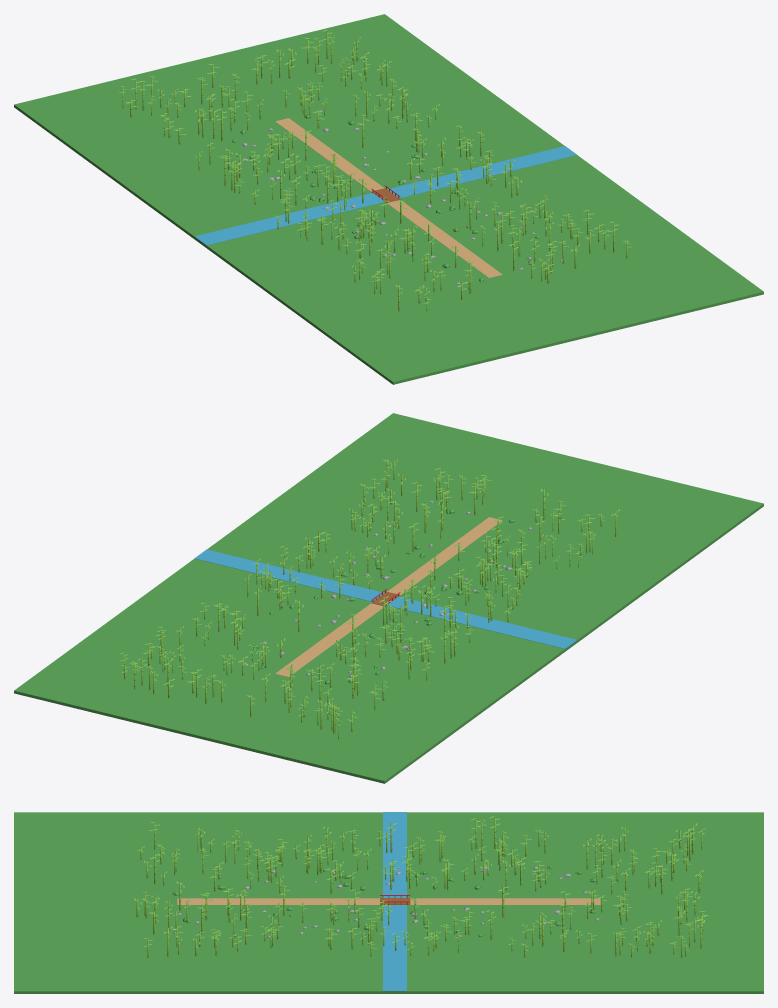
The picture shows the model from 3 angles, top to bottom: view 1: azimuth 30°, elevation 25°; view 2: azimuth 150°, elevation 25°; view 3: azimuth 270°, elevation 25°; orthographic projection.
Visible parts, largest first — view 1: Ground, Stream, Path; view 2: Ground, Stream, Path; view 3: Ground, Stream, Path.
Part boxes in pixels (x1,y1,x2,y2): Ground: (14, 14, 763, 384); Stream: (194, 146, 576, 245); Path: (275, 118, 502, 277); Ground: (14, 413, 763, 783); Stream: (194, 549, 576, 648); Path: (275, 517, 502, 676); Ground: (14, 812, 763, 993); Stream: (383, 812, 406, 991); Path: (177, 898, 600, 904).
Bounding box in the file's own units: 70 × 11.28 × 124.
